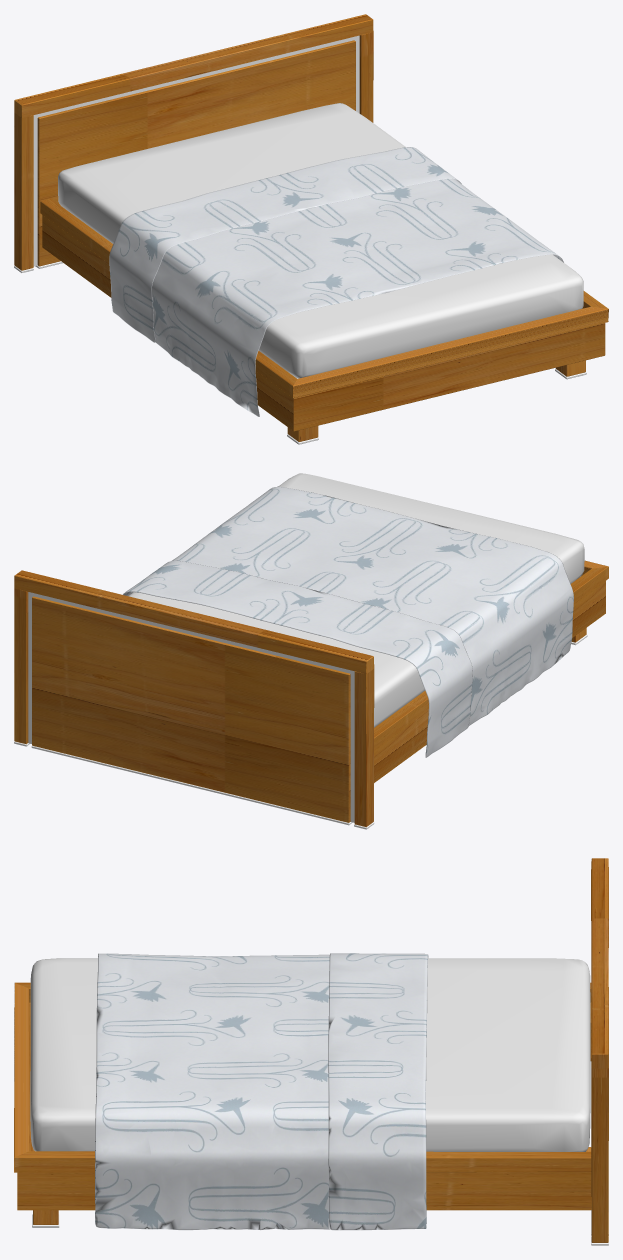
Rendered from bed.glb.
3 views of the same model, one above another, from view 1: azimuth 30°, elevation 25°; view 2: azimuth 150°, elevation 25°; view 3: azimuth 270°, elevation 25° (orthographic). The views are drawn at different scales.
Visible parts, largest first — view 1: Bedsheets_0001, WoodFurniture_0006, Matress; view 2: WoodFurniture_0006, Bedsheets_0001, Matress; view 3: Bedsheets_0001, Matress, WoodFurniture_0006.
Part boxes in pixels (box(x1,y1,x2,y2)): Bedsheets_0001: box(109, 147, 563, 416); WoodFurniture_0006: box(14, 14, 608, 441); Matress: box(14, 35, 586, 444); WoodFurniture_0006: box(14, 560, 608, 827); Bedsheets_0001: box(123, 486, 573, 757); Matress: box(14, 473, 587, 829); Bedsheets_0001: box(95, 953, 428, 1230); Matress: box(30, 958, 608, 1245); WoodFurniture_0006: box(14, 858, 608, 1242).
Bounding box in the file's own units: 1.62 × 0.7367 × 2.07.
3 materials, 3 textured.
